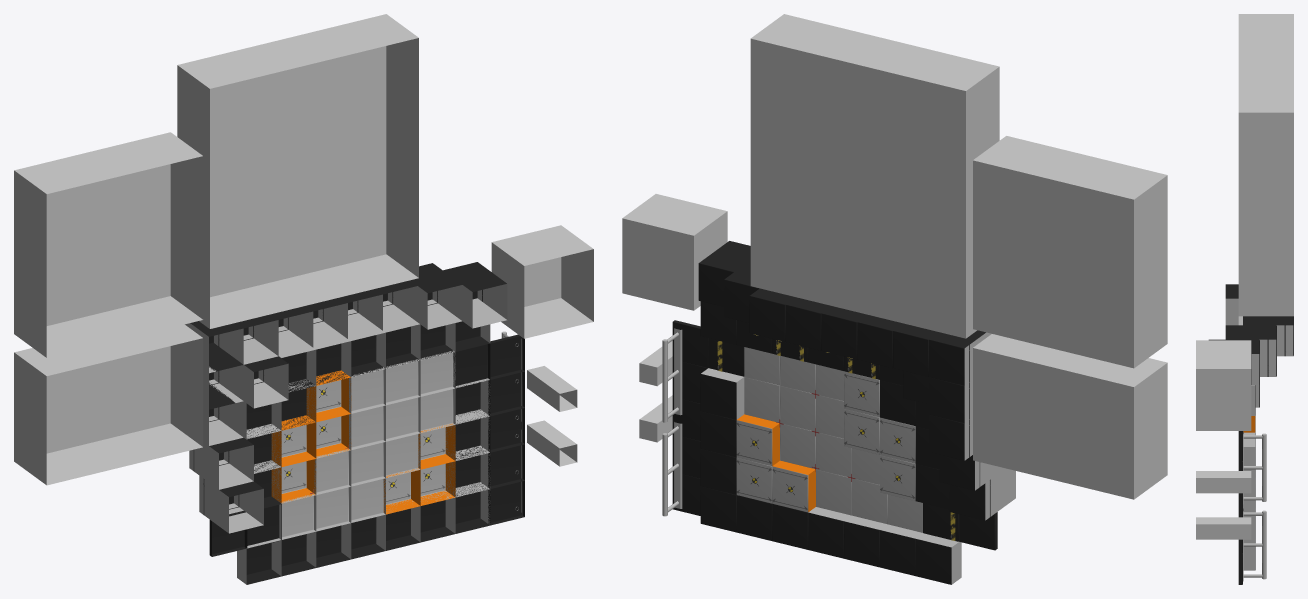
3 renders of one model, left to right at view 1: azimuth 30°, elevation 25°; view 2: azimuth 150°, elevation 25°; view 3: azimuth 270°, elevation 25°, orthographic. The views are drawn at different scales.
Visible parts, largest first — view 1: S_background_1, S_groud_outsaid_1, S_groud_outsaid_1_036, S_groud_insaid_1_015, S_groud_insaid_1_012, S_groud_outsaid_1_00, S_groud_insaid_1_017, S_groud_insaid_1_016, S_groud_outsaid_1_04, S_groud_insaid_1_018, S_groud_outsaid_1_012, S_groud_outsaid_1_01 (+32 smaller); view 2: S_background_1, S_groud_outsaid_1, S_railling_1, S_groud_outsaid_1_06, S_groud_outsaid_1_018, S_groud_insaid_1_013, S_groud_insaid_1_014, S_groud_outsaid_1_04, S_groud_outsaid_1_03, S_groud_outsaid_1_05, S_groud_outsaid_1_00, S_groud_outsaid_1_017 (+29 smaller); view 3: S_background_1, S_groud_outsaid_1, S_railling_1, S_groud_outsaid_1_036, S_groud_outsaid_1_018, S_groud_outsaid_1_00, S_groud_outsaid_1_017, S_groud_outsaid_1_016, S_groud_outsaid_1_015.
Boxes of the visible parts, x1,y1,x2,y2 form: S_background_1: [14, 14, 593, 485]; S_groud_outsaid_1: [185, 262, 524, 556]; S_groud_outsaid_1_036: [243, 356, 288, 408]; S_groud_insaid_1_015: [271, 415, 316, 466]; S_groud_insaid_1_012: [411, 454, 455, 505]; S_groud_outsaid_1_00: [445, 482, 490, 533]; S_groud_insaid_1_017: [306, 407, 351, 457]; S_groud_insaid_1_016: [271, 451, 316, 503]; S_groud_outsaid_1_04: [306, 521, 351, 567]; S_groud_insaid_1_018: [306, 370, 351, 422]; S_groud_outsaid_1_012: [341, 331, 385, 376]; S_groud_outsaid_1_01: [411, 491, 455, 542]; S_background_1: [622, 14, 1167, 499]; S_groud_outsaid_1: [672, 241, 1015, 550]; S_railling_1: [662, 328, 682, 516]; S_groud_outsaid_1_06: [915, 533, 961, 584]; S_groud_outsaid_1_018: [700, 368, 744, 419]; S_groud_insaid_1_013: [772, 460, 815, 512]; S_groud_insaid_1_014: [736, 414, 779, 466]; S_groud_outsaid_1_04: [844, 515, 886, 567]; S_groud_outsaid_1_03: [808, 507, 851, 558]; S_groud_outsaid_1_05: [880, 524, 922, 575]; S_groud_outsaid_1_00: [700, 486, 736, 532]; S_groud_outsaid_1_017: [700, 411, 736, 457]; S_background_1: [1196, 14, 1293, 539]; S_groud_outsaid_1: [1209, 316, 1293, 584]; S_railling_1: [1243, 431, 1266, 581]; S_groud_outsaid_1_036: [1225, 284, 1238, 325]; S_groud_outsaid_1_018: [1243, 432, 1255, 477]; S_groud_outsaid_1_00: [1243, 539, 1255, 570]; S_groud_outsaid_1_017: [1243, 478, 1255, 508]; S_groud_outsaid_1_016: [1243, 508, 1255, 539]; S_groud_outsaid_1_015: [1251, 385, 1255, 415].
Bounding box in the file's own units: 0.15 × 0.1387 × 0.0287.
2 materials, 1 textured.
